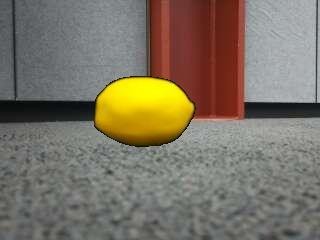lemon: (95, 78, 195, 146)
